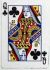queen: (1, 1, 48, 67)
